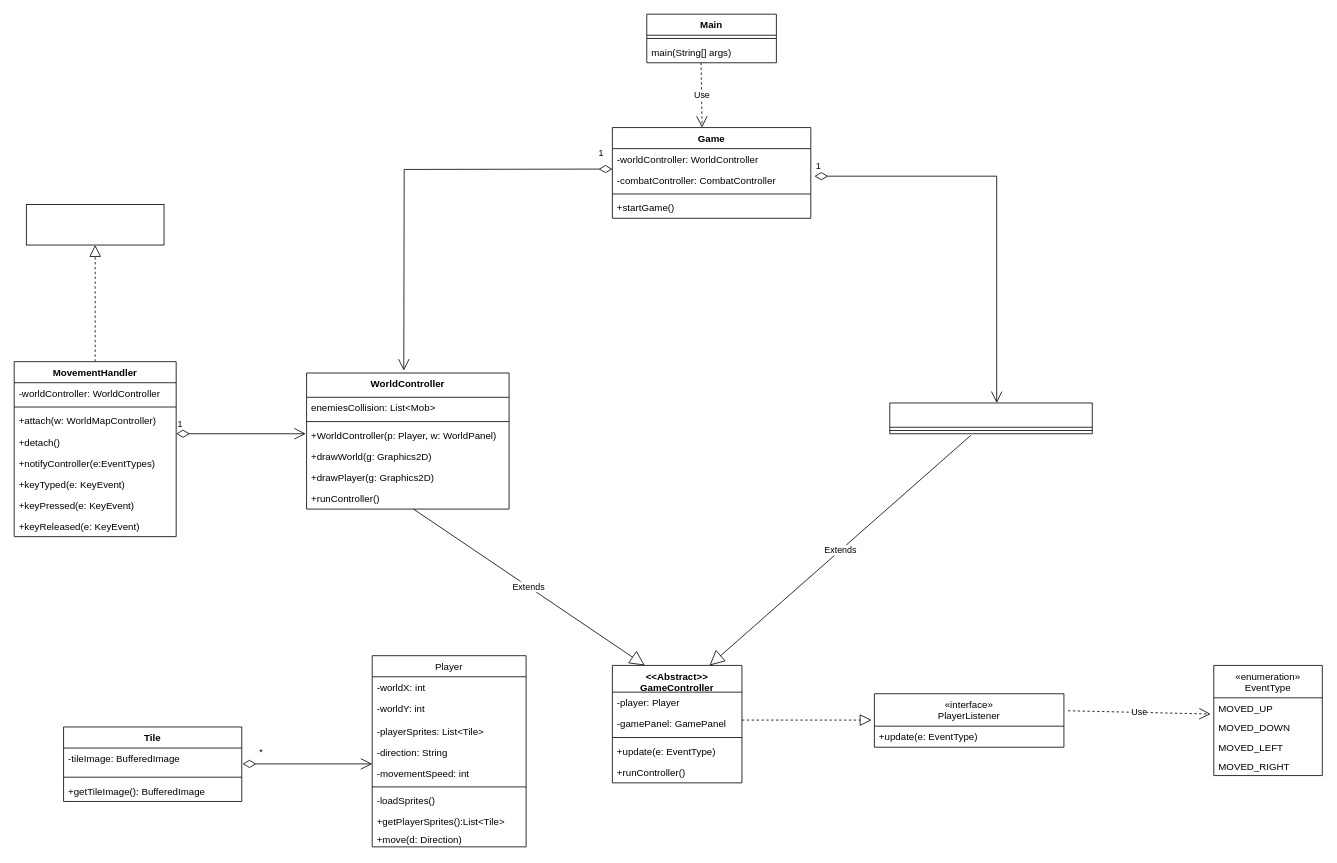
Some shapes in this 1337 by 863 pixel diagram are drawn without their labels. Here are the shapes that lost their labels. From the top down, the centre of each, then its label:
(95,224): «interface» java.awt.event.KeyListener
(990,418): CombatController
